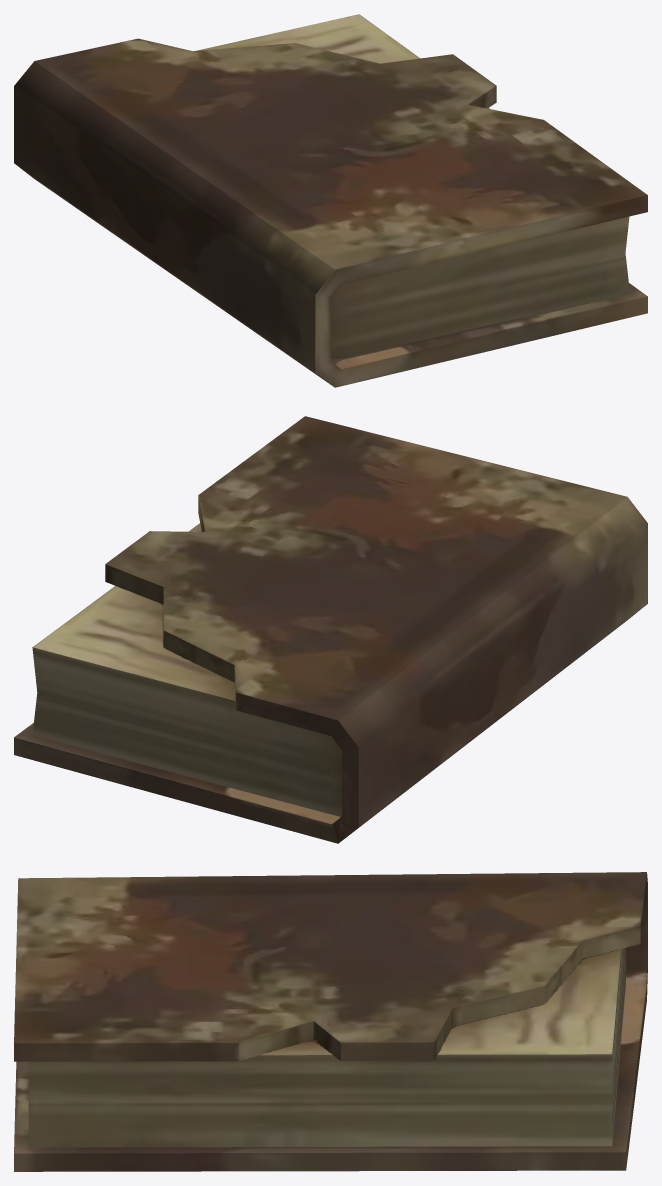
3 renders of one model, top to bottom at view 1: azimuth 30°, elevation 25°; view 2: azimuth 150°, elevation 25°; view 3: azimuth 270°, elevation 25°, orthographic. The views are drawn at different scales.
Visible parts, largest first — view 1: SM_DR_Book_01_LOD0; view 2: SM_DR_Book_01_LOD0; view 3: SM_DR_Book_01_LOD0.
Boxes of the visible parts, x1,y1,x2,y2 form: SM_DR_Book_01_LOD0: (14, 14, 647, 387); SM_DR_Book_01_LOD0: (14, 416, 647, 843); SM_DR_Book_01_LOD0: (14, 872, 647, 1171).
Size of the model in its own units: 0.2709 by 0.0892 by 0.399.
1 material, 1 textured.
